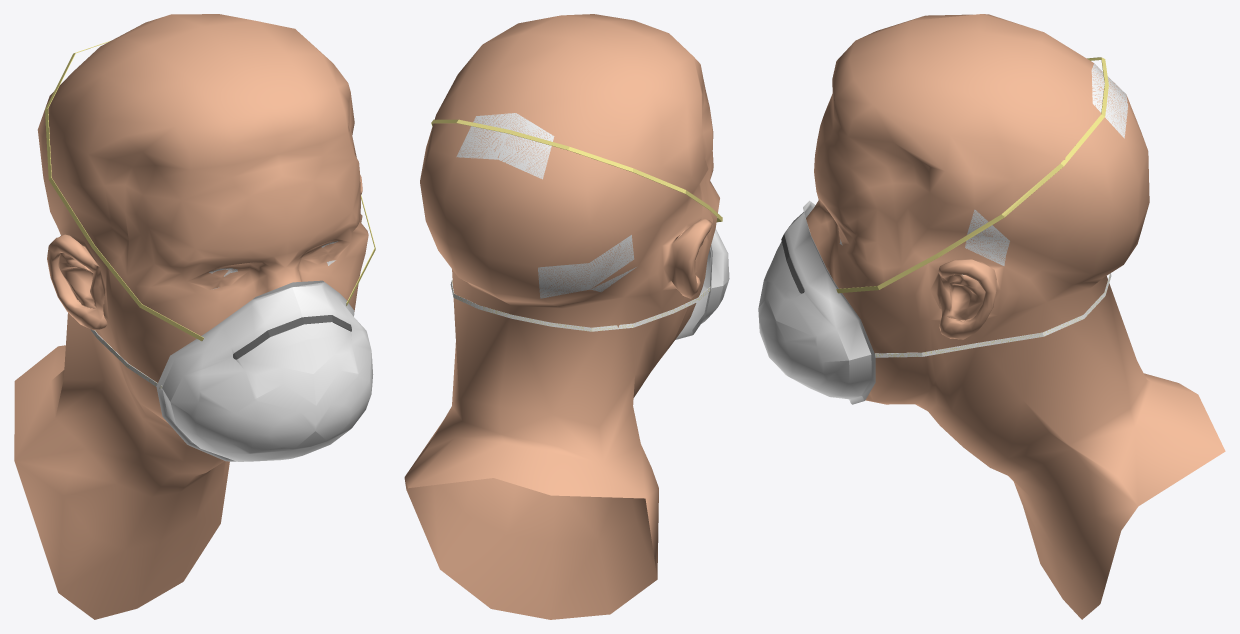
Rendered from mask1.dae.
3 views of the same model, side by side, from view 1: azimuth 30°, elevation 25°; view 2: azimuth 150°, elevation 25°; view 3: azimuth 270°, elevation 25° (orthographic). The views are drawn at different scales.
Visible parts, largest first — view 1: group_1 (×4), group_4 (×2), group_5; view 2: group_1 (×4), group_4, group_5, group_3; view 3: group_1 (×4), group_4, group_5, group_3.
Boxes of the visible parts, x1,y1,x2,y2 form: group_1 (×4): (14, 14, 368, 619); group_4 (×2): (156, 280, 373, 461); group_5: (45, 41, 375, 341); group_1 (×4): (404, 14, 719, 619); group_4: (675, 229, 729, 339); group_5: (431, 119, 722, 222); group_3: (450, 280, 710, 331); group_1 (×4): (806, 14, 1225, 619); group_4: (758, 200, 875, 404); group_5: (836, 57, 1108, 293); group_3: (875, 273, 1111, 357).
Bounding box in the file's own units: 7.55 × 10.81 × 14.75.
